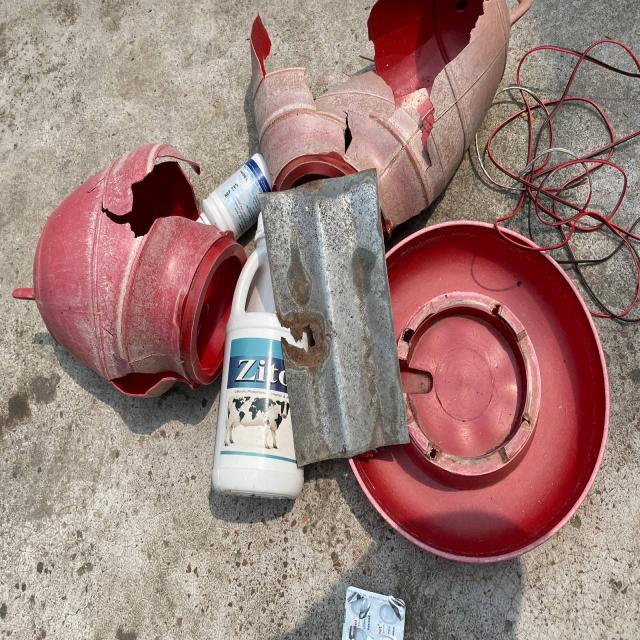Cable: (486, 38, 638, 278)
Medical Waste: (325, 574, 418, 640)
Metal: (249, 166, 418, 466)
Plastics: (9, 148, 258, 507), (429, 265, 626, 587), (227, 0, 490, 183)
